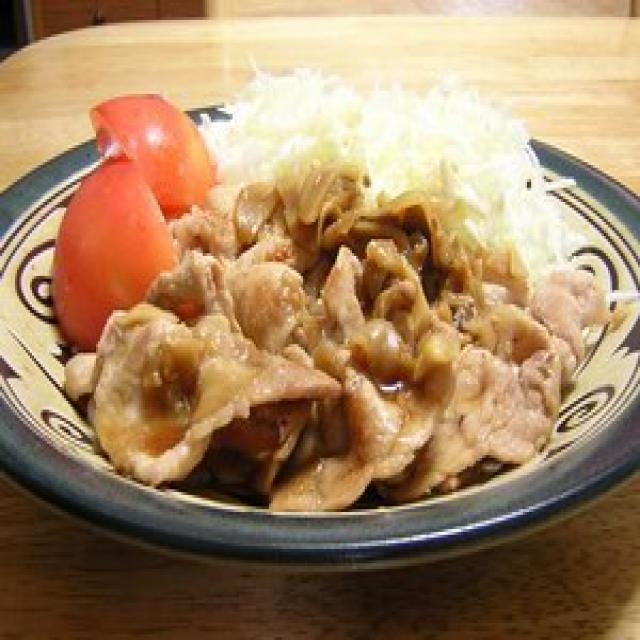猪肉菜式: (0, 62, 640, 572)
